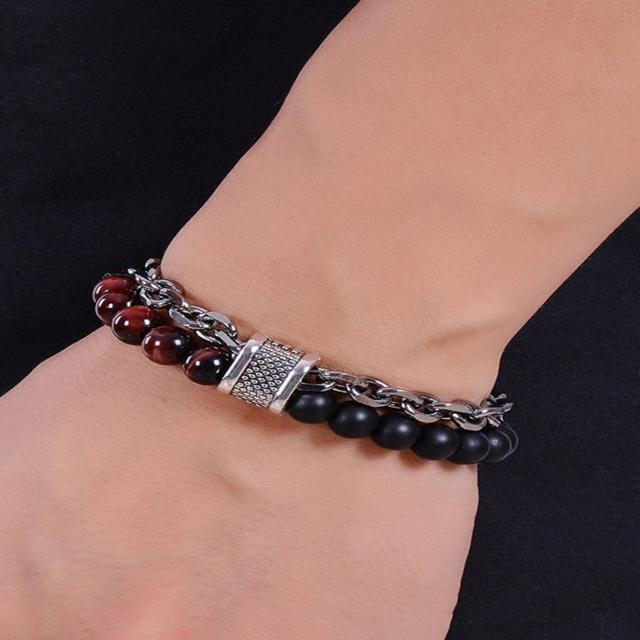bracelet: (54, 210, 616, 463)
